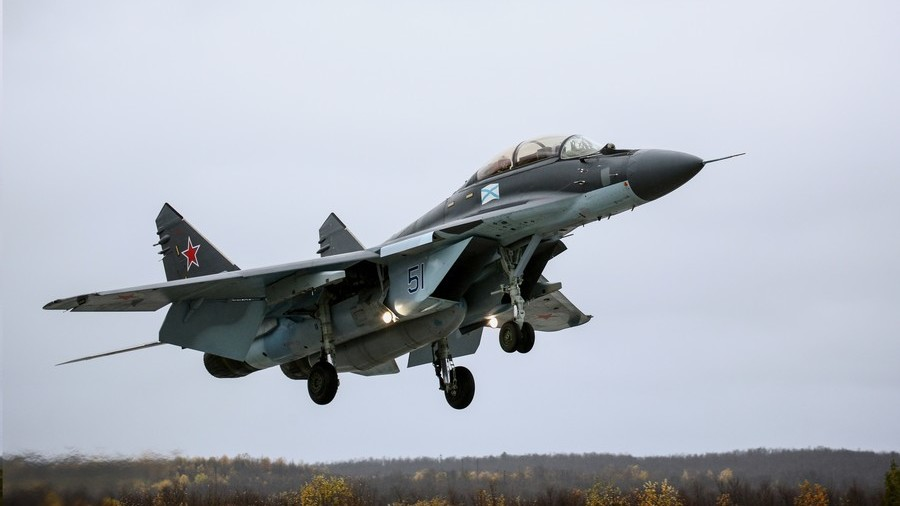Mig-29: (45, 87, 744, 408)
